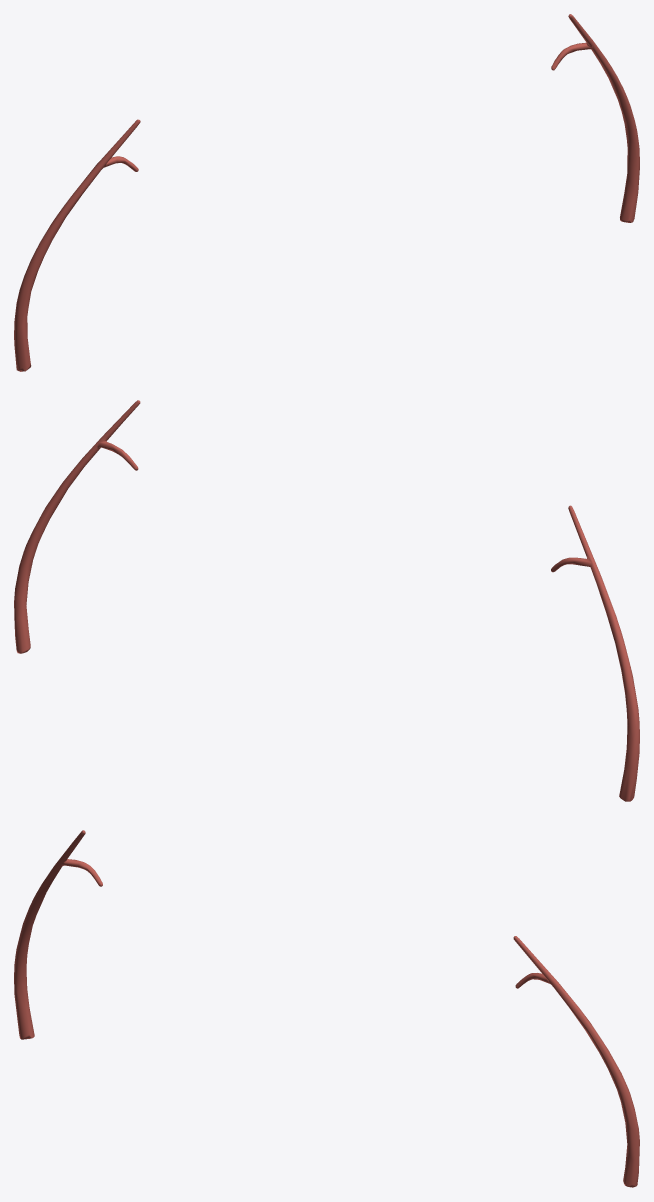
File: inferior-thyroid-arteries.glb
3 renders of one model, top to bottom at view 1: azimuth 30°, elevation 25°; view 2: azimuth 150°, elevation 25°; view 3: azimuth 330°, elevation 25°, orthographic.
Parts seen in each view (by area): view 1: FMA10697, FMA10680; view 2: FMA10697, FMA10680; view 3: FMA10680, FMA10697.
Boxes of the visible parts, x1,y1,x2,y2 form: FMA10697: (14, 119, 140, 371); FMA10680: (551, 14, 639, 222); FMA10697: (551, 505, 639, 801); FMA10680: (14, 400, 140, 653); FMA10680: (513, 936, 639, 1187); FMA10697: (14, 830, 102, 1039).
Size of the model in its own units: 0.8682 by 0.3338 by 0.0815.
